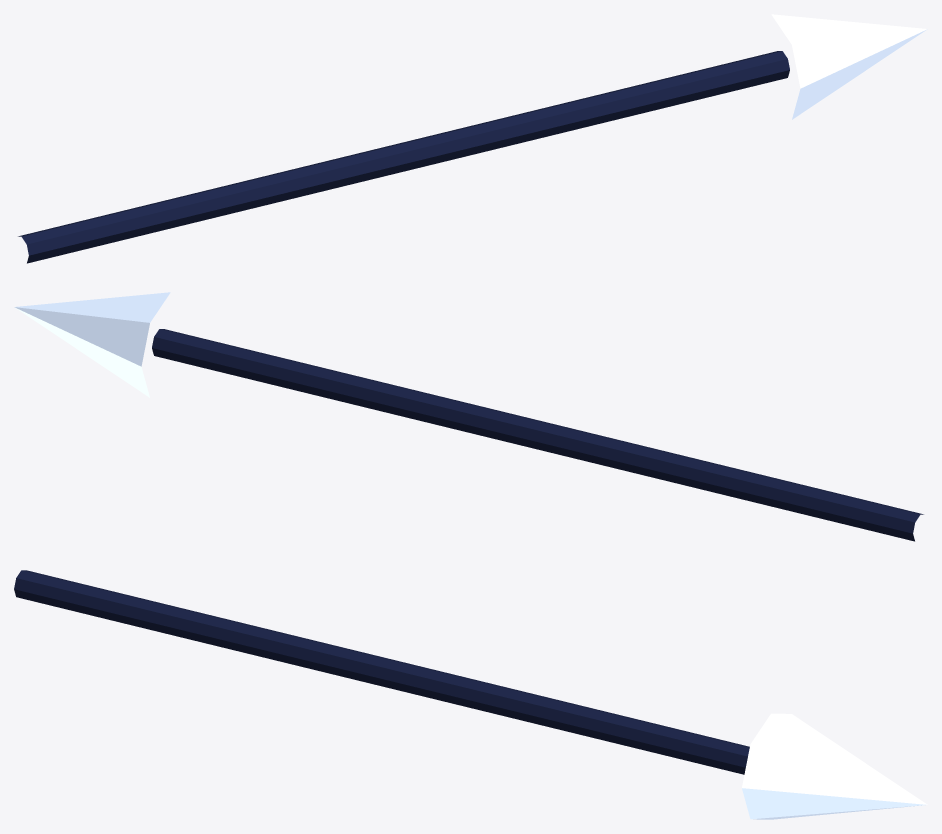
Rendered from phantom-lancer.glb.
3 renders of one model, top to bottom at view 1: azimuth 30°, elevation 25°; view 2: azimuth 150°, elevation 25°; view 3: azimuth 330°, elevation 25°, orthographic.
Parts seen in each view (by area): view 1: phantom-lancer-shaft, phantom-lancer-tip; view 2: phantom-lancer-shaft, phantom-lancer-tip; view 3: phantom-lancer-shaft, phantom-lancer-tip.
Part boxes in pixels (bbox=[...]): phantom-lancer-shaft: bbox=[18, 51, 789, 263]; phantom-lancer-tip: bbox=[771, 14, 927, 119]; phantom-lancer-shaft: bbox=[152, 329, 923, 541]; phantom-lancer-tip: bbox=[14, 292, 170, 397]; phantom-lancer-shaft: bbox=[14, 570, 749, 774]; phantom-lancer-tip: bbox=[742, 713, 927, 819].
Bounding box in the file's own units: 1.97 × 0.22 × 0.22.
